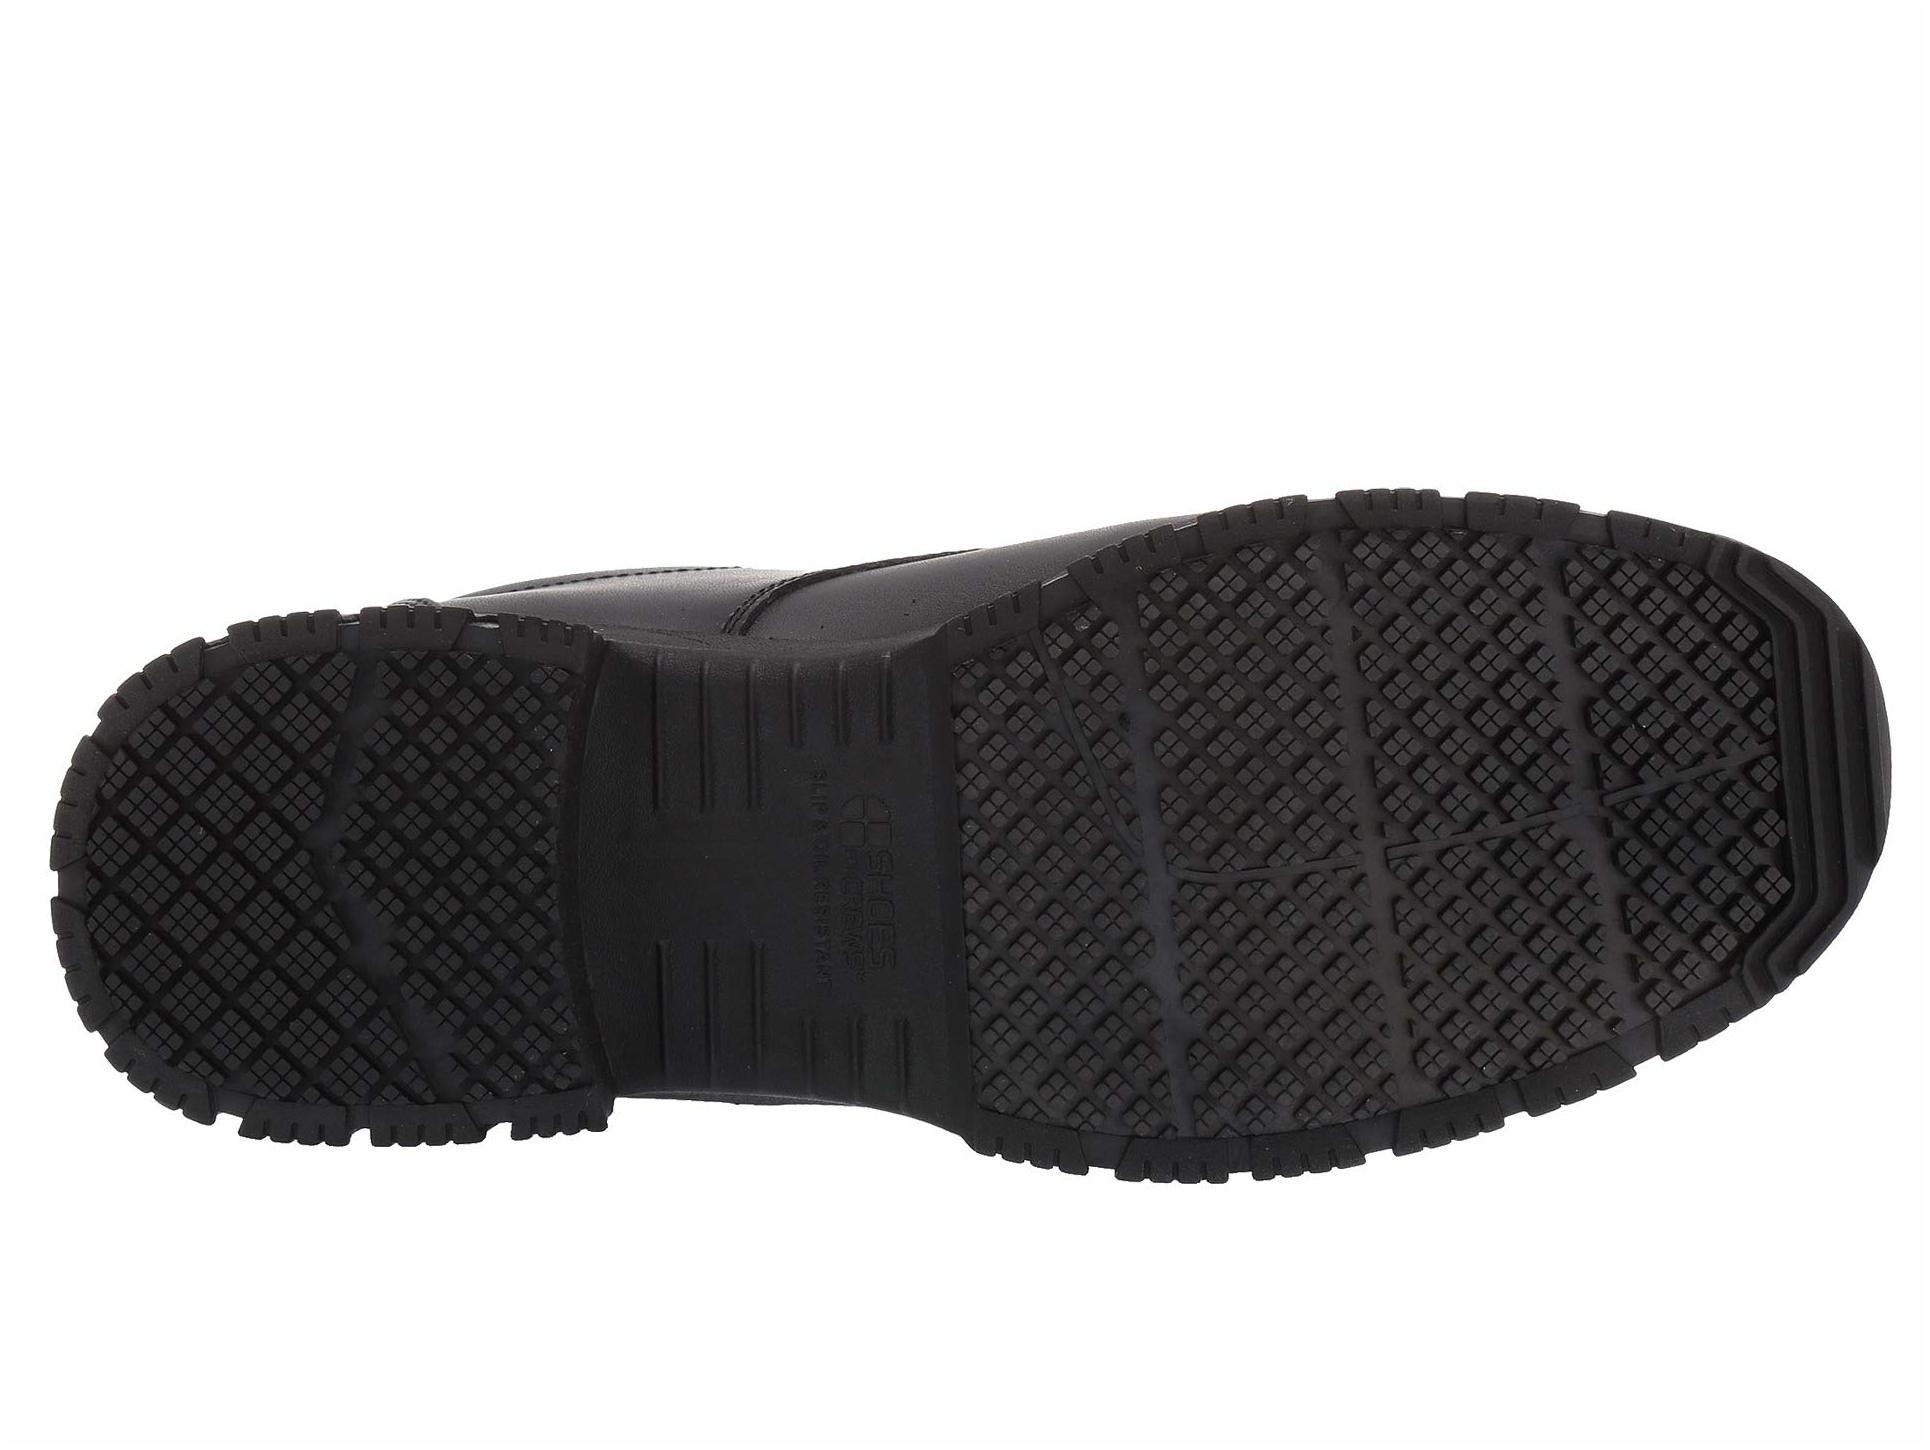quad: (1008, 688, 1433, 1110), (117, 723, 500, 1083)
